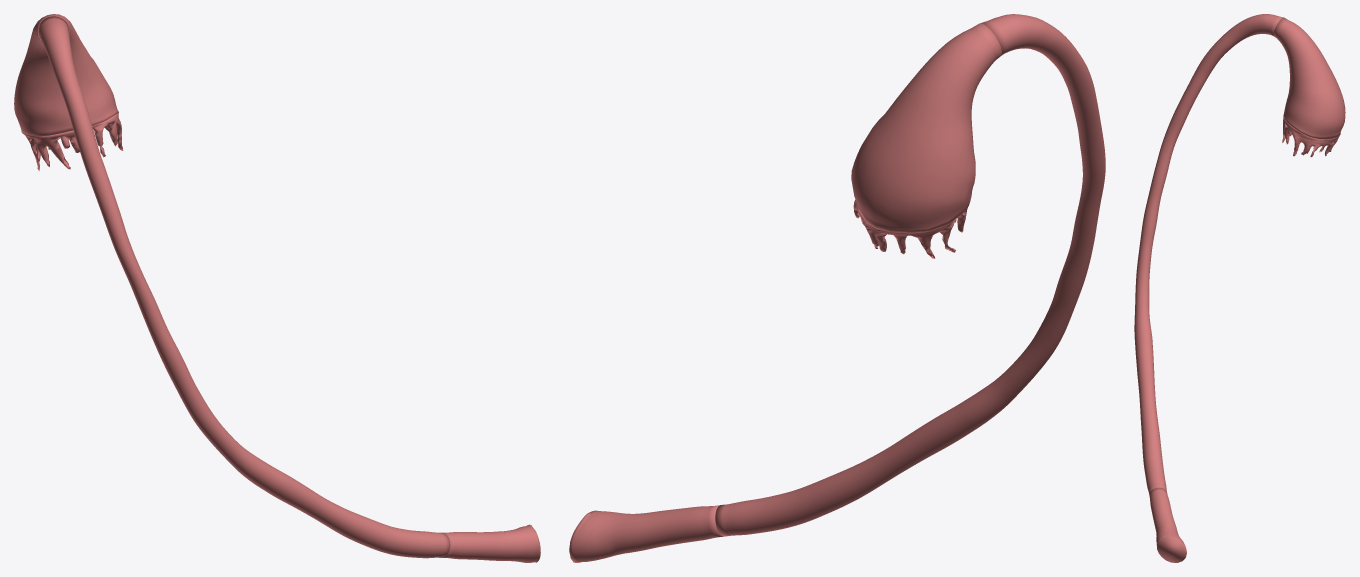
The picture shows the model from 3 angles, left to right: view 1: azimuth 30°, elevation 25°; view 2: azimuth 150°, elevation 25°; view 3: azimuth 270°, elevation 25°; orthographic projection. The views are drawn at different scales.
Visible parts, largest first — view 1: VH_F_ampulla_of_uterine_tube_R, VH_F_uterine_tube_infundibulum_R, VH_F_isthmus_of_fallopian_tube_R, VH_F_fibria_of_uterine_tube_R; view 2: VH_F_ampulla_of_uterine_tube_R, VH_F_uterine_tube_infundibulum_R, VH_F_isthmus_of_fallopian_tube_R, VH_F_fibria_of_uterine_tube_R; view 3: VH_F_ampulla_of_uterine_tube_R, VH_F_uterine_tube_infundibulum_R, VH_F_isthmus_of_fallopian_tube_R, VH_F_fibria_of_uterine_tube_R.
Part boxes in pixels (x1=…): VH_F_ampulla_of_uterine_tube_R: x1=37, y1=16, x2=450, y2=558; VH_F_uterine_tube_infundibulum_R: x1=14, y1=14, x2=118, y2=136; VH_F_isthmus_of_fallopian_tube_R: x1=442, y1=524, x2=540, y2=562; VH_F_fibria_of_uterine_tube_R: x1=22, y1=112, x2=123, y2=170; VH_F_ampulla_of_uterine_tube_R: x1=715, y1=14, x2=1105, y2=536; VH_F_uterine_tube_infundibulum_R: x1=851, y1=23, x2=1001, y2=233; VH_F_isthmus_of_fallopian_tube_R: x1=569, y1=505, x2=722, y2=562; VH_F_fibria_of_uterine_tube_R: x1=853, y1=200, x2=967, y2=258; VH_F_ampulla_of_uterine_tube_R: x1=1134, y1=14, x2=1283, y2=493; VH_F_uterine_tube_infundibulum_R: x1=1273, y1=17, x2=1345, y2=139; VH_F_isthmus_of_fallopian_tube_R: x1=1149, y1=488, x2=1186, y2=562; VH_F_fibria_of_uterine_tube_R: x1=1282, y1=117, x2=1339, y2=157.
Bounding box in the file's own units: 0.0344 × 0.0446 × 0.0209.
